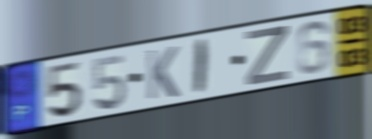5: (45, 60, 83, 118), (92, 51, 128, 112)
6: (296, 19, 330, 76)
I: (193, 37, 211, 98)
K: (145, 44, 180, 102)
Z: (245, 24, 291, 88)
